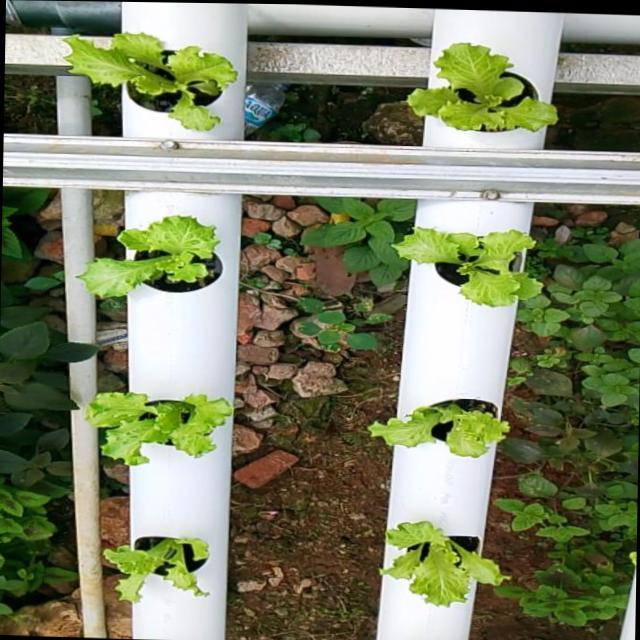Baby: (56, 39, 230, 137), (402, 45, 552, 150), (385, 229, 538, 310), (77, 215, 223, 298), (380, 522, 510, 607), (84, 392, 233, 466), (367, 399, 510, 458), (103, 537, 208, 602)
